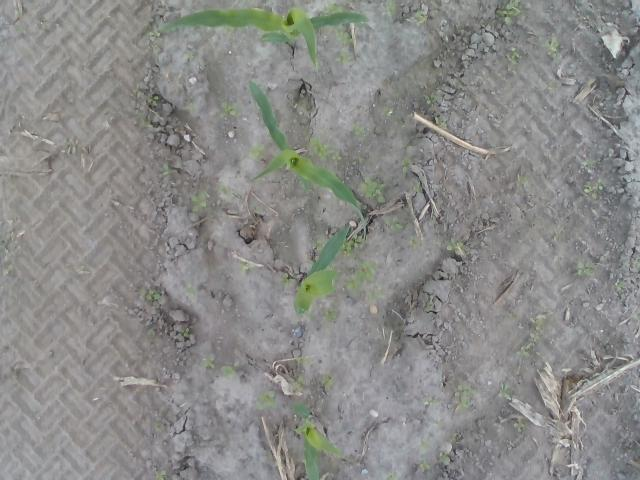Maize: (248, 80, 369, 246), (158, 6, 370, 66), (290, 224, 352, 318), (292, 399, 346, 480)
Weeds: (346, 260, 379, 300), (308, 135, 342, 162), (356, 175, 386, 204), (498, 0, 524, 26), (254, 390, 280, 412), (528, 312, 546, 342), (544, 38, 563, 66), (382, 215, 408, 234), (454, 382, 473, 408), (341, 239, 364, 258), (191, 189, 209, 213), (246, 141, 268, 160), (584, 178, 608, 194), (446, 236, 464, 256), (575, 260, 594, 278), (288, 373, 304, 394), (320, 1, 344, 14), (137, 288, 161, 301), (335, 30, 354, 46), (318, 374, 336, 390), (334, 50, 354, 64), (412, 9, 428, 26), (220, 103, 238, 118), (497, 382, 511, 401), (280, 271, 295, 288), (434, 115, 449, 130), (399, 158, 412, 175), (160, 158, 171, 178), (238, 260, 256, 272), (513, 418, 527, 433), (352, 122, 366, 136), (385, 0, 396, 17), (202, 356, 215, 370), (324, 308, 338, 321), (546, 79, 558, 94), (438, 450, 450, 463), (582, 158, 596, 169), (511, 47, 519, 65), (418, 460, 430, 472), (223, 366, 236, 377), (408, 234, 418, 248), (424, 94, 439, 103), (184, 286, 195, 298), (381, 106, 392, 118), (146, 30, 162, 38), (314, 238, 324, 250), (517, 174, 529, 184), (614, 278, 626, 288), (513, 350, 528, 358), (425, 398, 438, 406), (180, 328, 190, 338), (386, 473, 399, 480), (158, 471, 168, 480), (416, 184, 422, 192), (152, 95, 160, 101)
